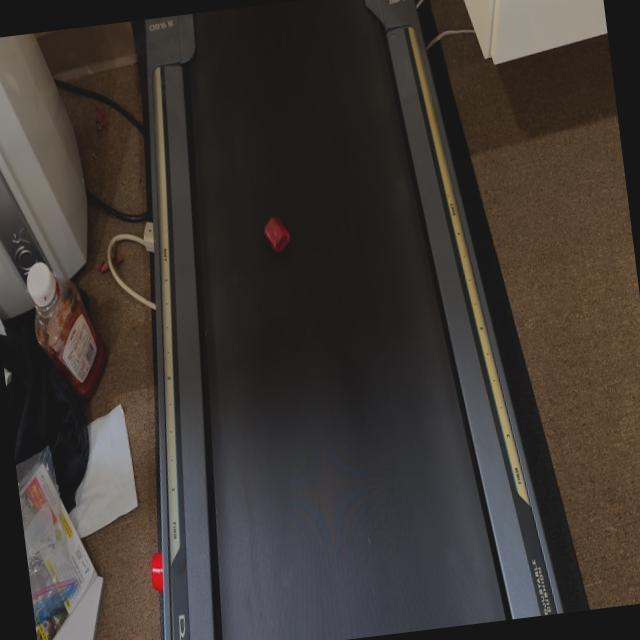Trash: (262, 212, 294, 258)
